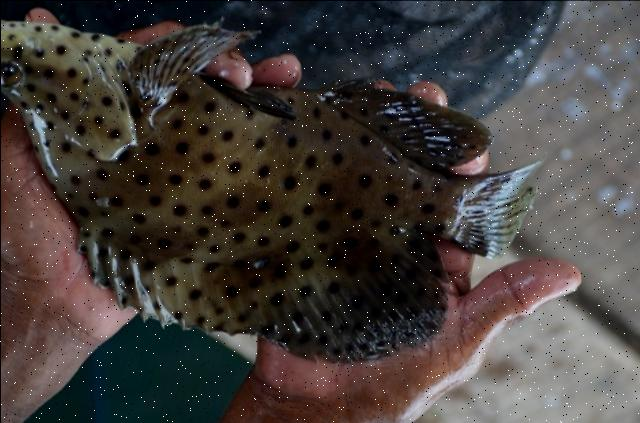Sirip Anal: (327, 74, 497, 172)
Sirip Dada: (121, 13, 269, 122)
Sirip Ekor: (457, 148, 551, 264)
Sirip Perut: (201, 66, 301, 124)
Sirip Punggung: (60, 228, 460, 366)
